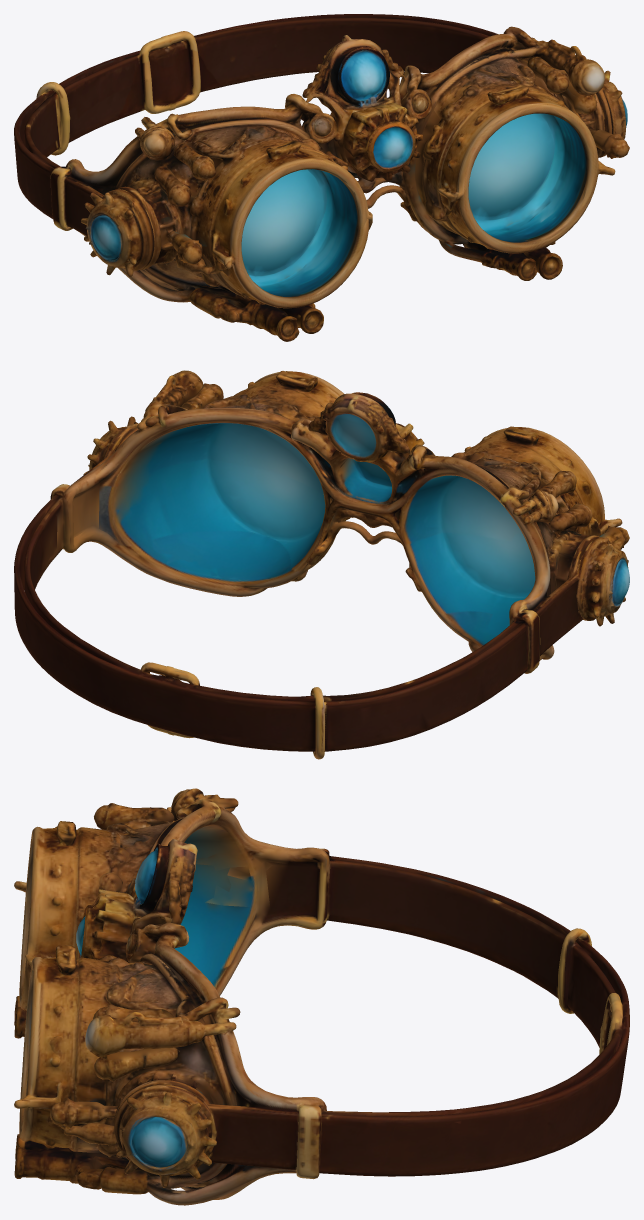
Rendered from pixellabs-glb-3351.high.glb.
3 views of the same model, one above another, from view 1: azimuth 30°, elevation 25°; view 2: azimuth 150°, elevation 25°; view 3: azimuth 270°, elevation 25° (orthographic). The views are drawn at different scales.
Parts seen in each view (by area): view 1: material; view 2: material; view 3: material.
Boxes of the visible parts, x1,y1,x2,y2 form: material: (14, 14, 629, 341); material: (14, 370, 629, 759); material: (14, 788, 629, 1205).
Size of the model in its own units: 1.05 by 0.4393 by 0.9097.
1 material, 1 textured.
